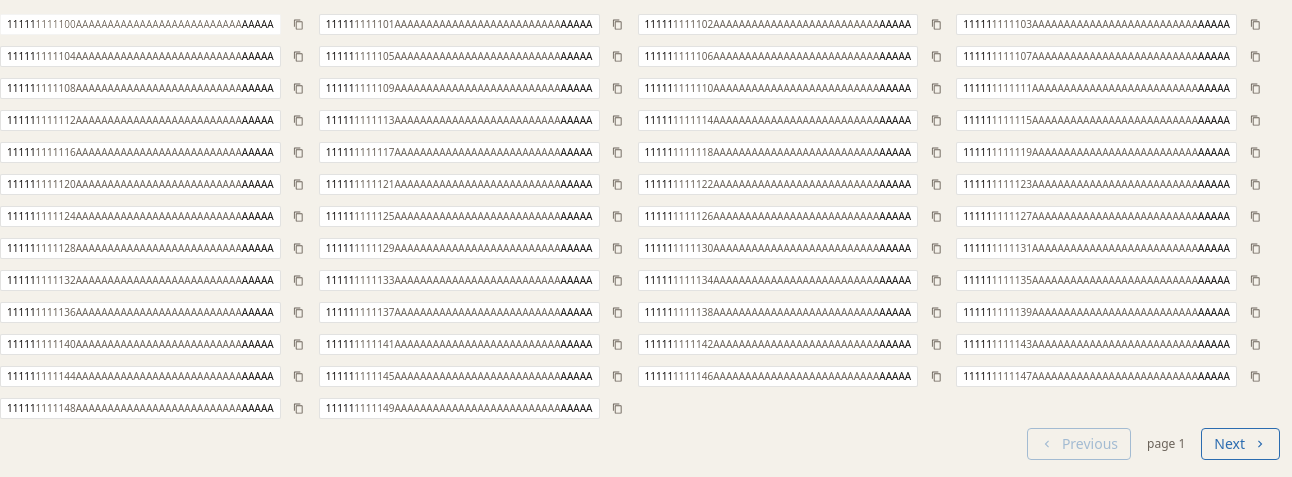
ContenderVoters › pages voters with an exclusive start-after cursor
Expected: the text "page 1" is shown, [1147,435,1185,453]
Click the button "Next" at (1241, 444), box [1201,428,1280,460]
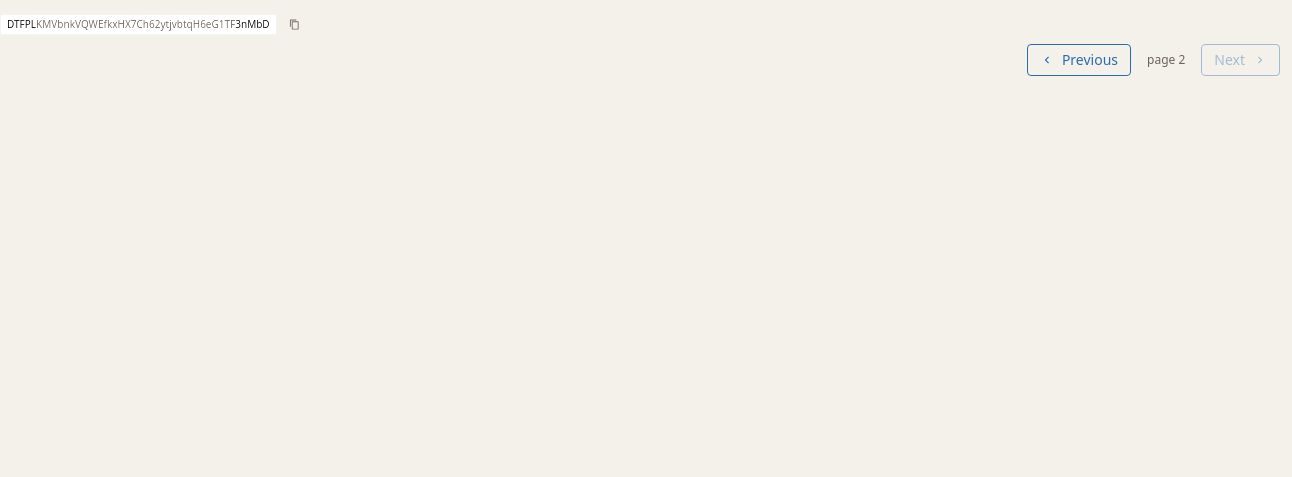
Now the text "page 2" is shown, box [1147,51,1185,69]
Now the button "Next" is disabled, box [1201,44,1280,76]
